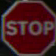Stop: (3, 5, 53, 48)
